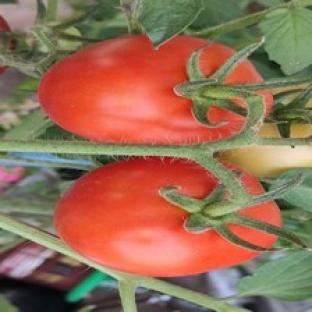Tomato: (55, 158, 259, 277), (39, 35, 245, 144), (218, 145, 311, 178), (0, 16, 11, 32)
